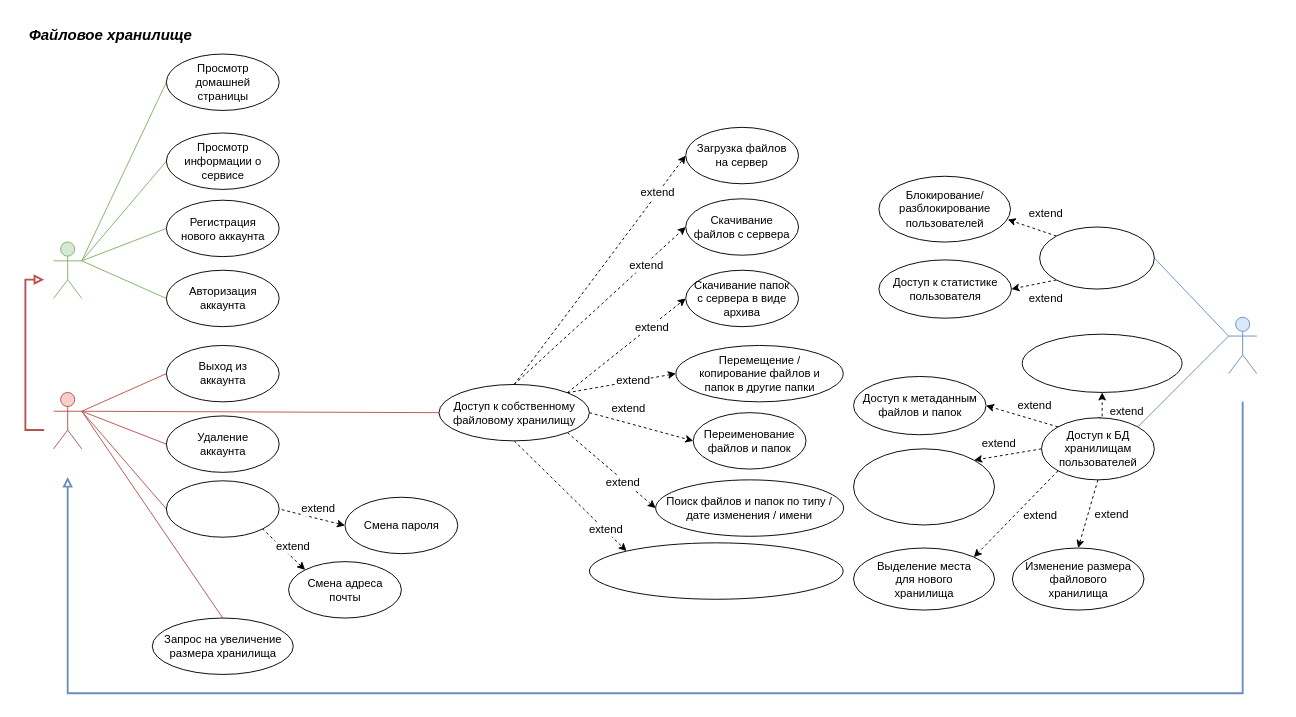
The diagram is 1296 pixels wide and 717 high, and some of its shapes have lost their labels. The centre of each missing label's shape, as x and y in pixels:
"Администатор" goes at (x=1242, y=345).
"Делиться файлами и папками через сгенерированные ссылки" goes at (x=715, y=570).
"Добавление, редактирование, удаление метаданных файлов и папок" goes at (x=924, y=486).
"Доступ к БД пользователей" goes at (x=1096, y=257).
"Пользователь" goes at (x=67, y=420).
"Посетитель" goes at (x=67, y=269).
"Редактирование аккаунта" goes at (x=222, y=508).
"Удаление информации о хранилище и его содержимого" goes at (x=1101, y=362).
